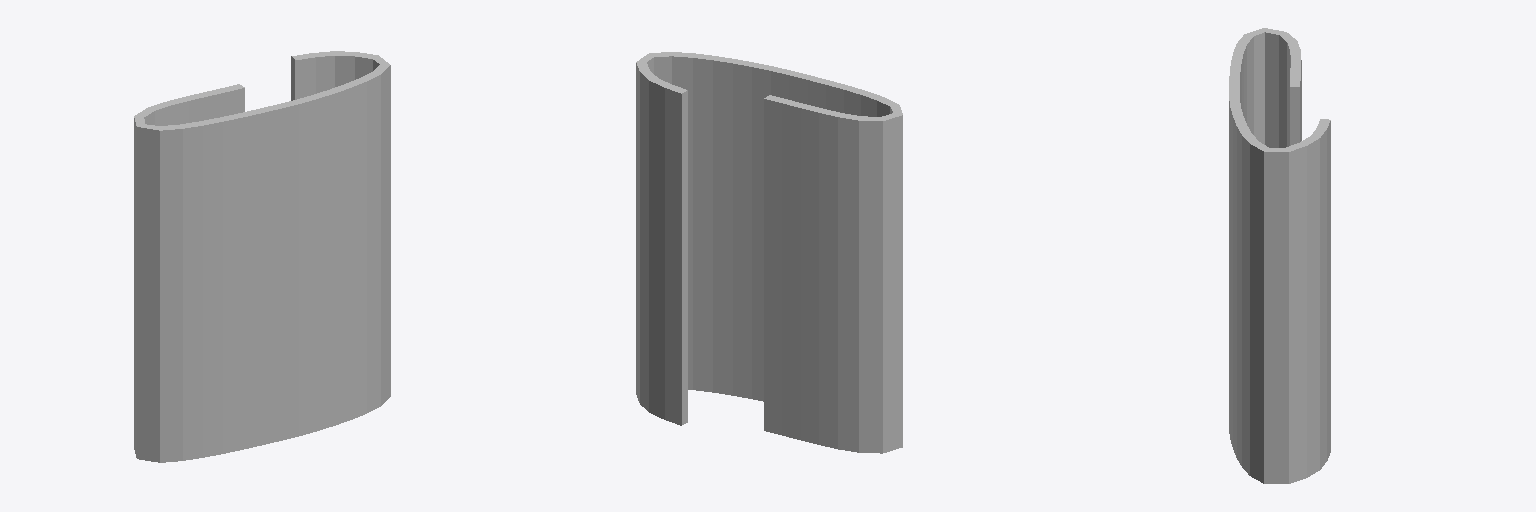
File: Scroll2.obj
3 views of the same model, side by side, from view 1: azimuth 30°, elevation 25°; view 2: azimuth 150°, elevation 25°; view 3: azimuth 270°, elevation 25° (orthographic).
Parts seen in each view (by area): view 1: Cube_Cube.001; view 2: Cube_Cube.001; view 3: Cube_Cube.001.
Part boxes in pixels (x1,y1,x2,y2): Cube_Cube.001: (134,51,390,462); Cube_Cube.001: (636,52,902,453); Cube_Cube.001: (1229,28,1330,483).
Bounding box in the file's own units: 3.7 × 4.62 × 1.29.